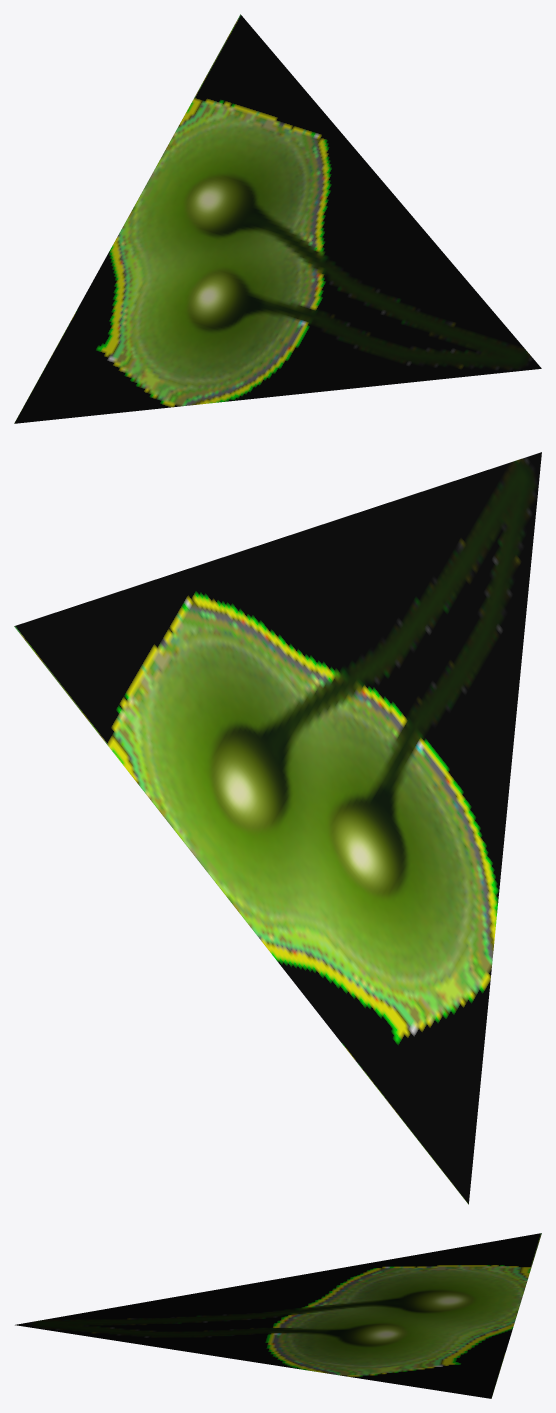
Rendered from MEP_Lumie_03.fbx.
3 renders of one model, top to bottom at view 1: azimuth 30°, elevation 25°; view 2: azimuth 150°, elevation 25°; view 3: azimuth 270°, elevation 25°, orthographic. The views are drawn at different scales.
Visible parts, largest first — view 1: MEP_Lumie_03; view 2: MEP_Lumie_03; view 3: MEP_Lumie_03.
Boxes of the visible parts, <box> form: MEP_Lumie_03: <box>14,14,541,423</box>; MEP_Lumie_03: <box>14,452,541,1204</box>; MEP_Lumie_03: <box>15,1233,541,1398</box>.
Size of the model in its own units: 0.5485 by 0.6628 by 1.17.
